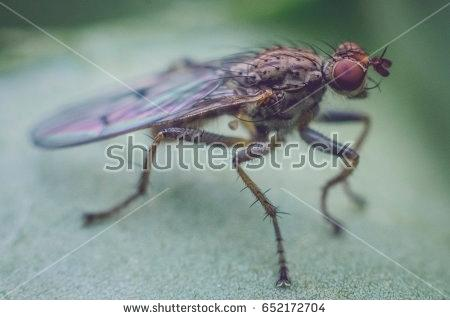house fly: (28, 47, 399, 272)
